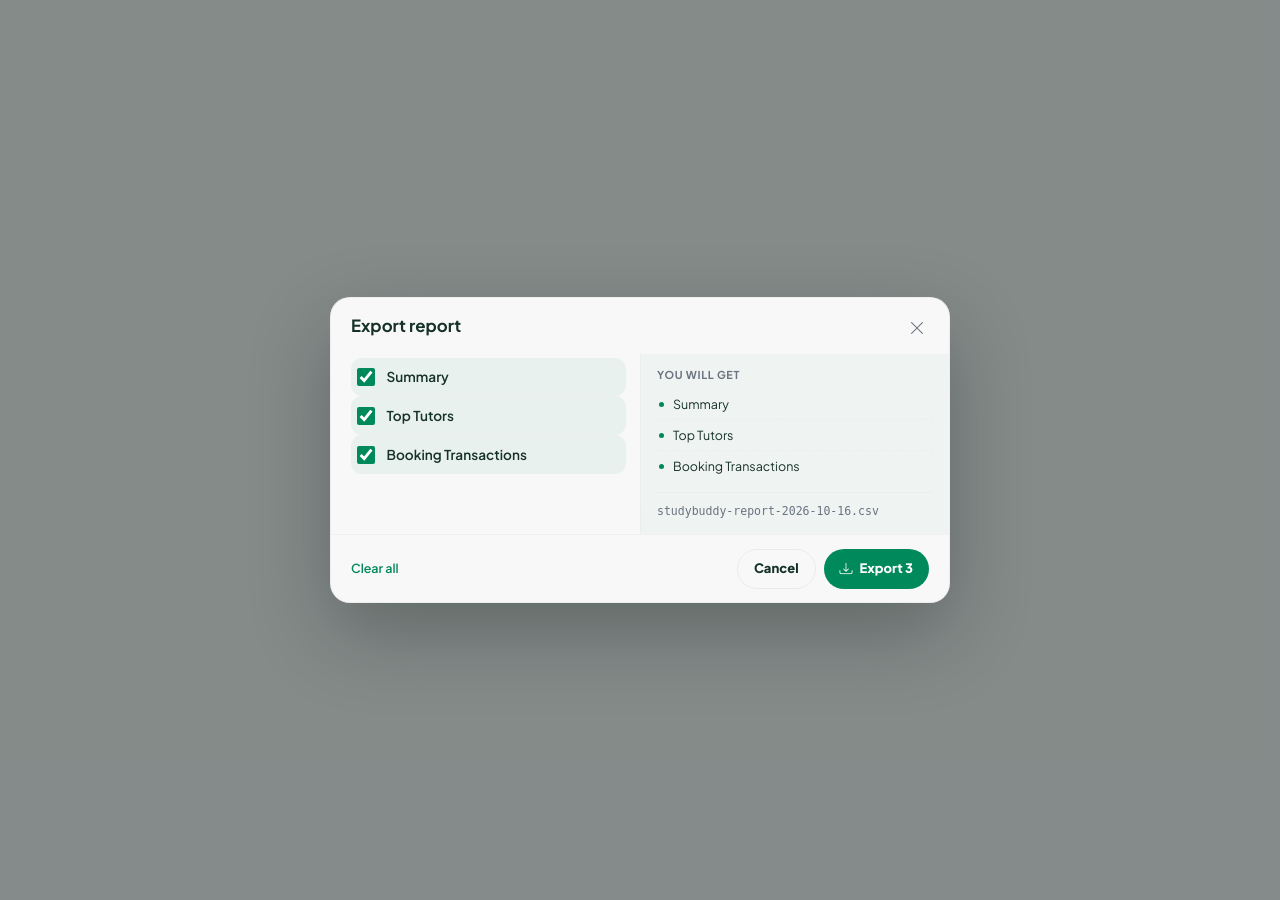
Test: SbExportModal › disables Export once nothing is ticked
Click the button with class "sb-export-linkbtn": (375, 569) [351, 559, 398, 578]
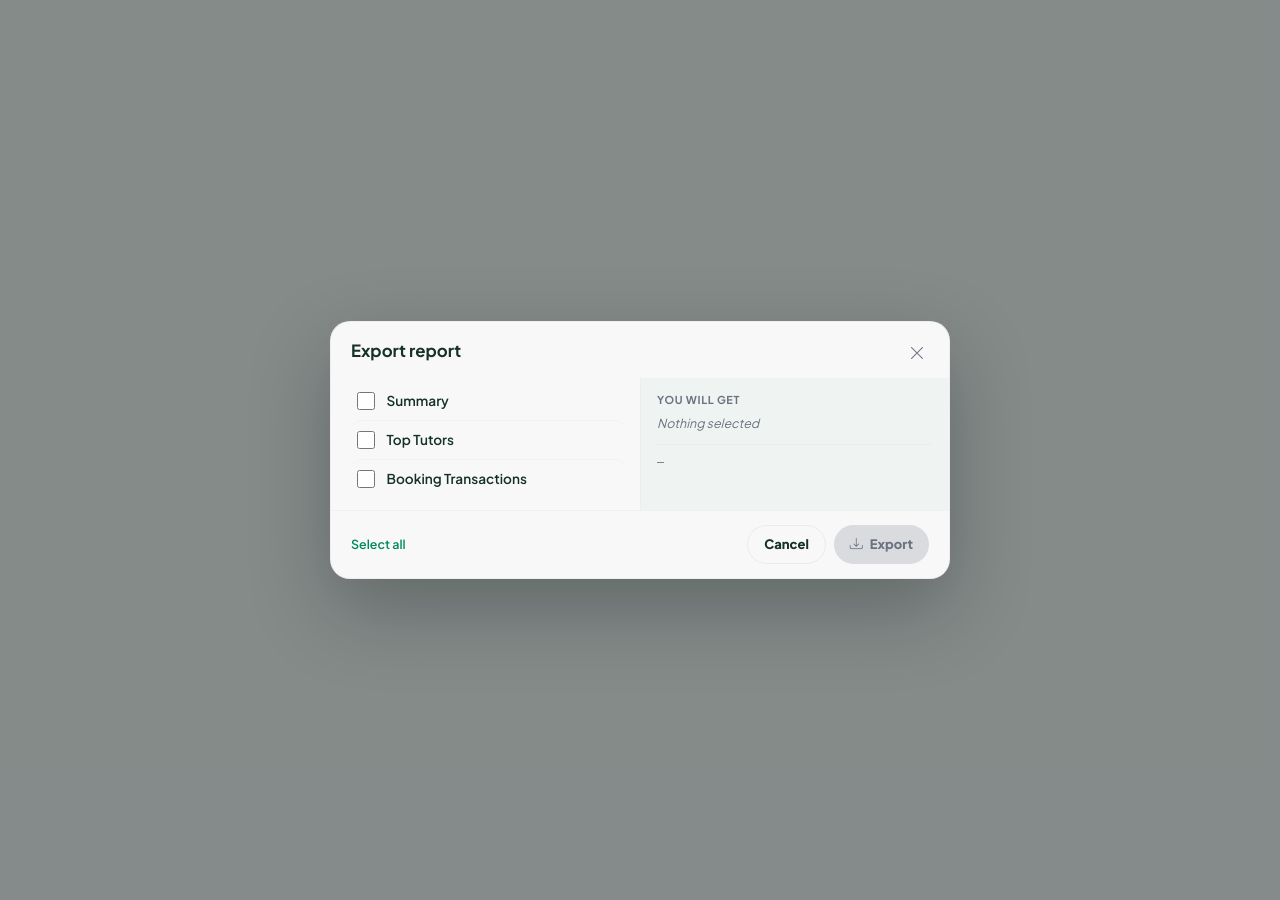
Now the button with class "is-primary" is disabled, box [834, 525, 929, 564]
Now the text "Nothing selected" is shown, box [657, 415, 759, 431]
